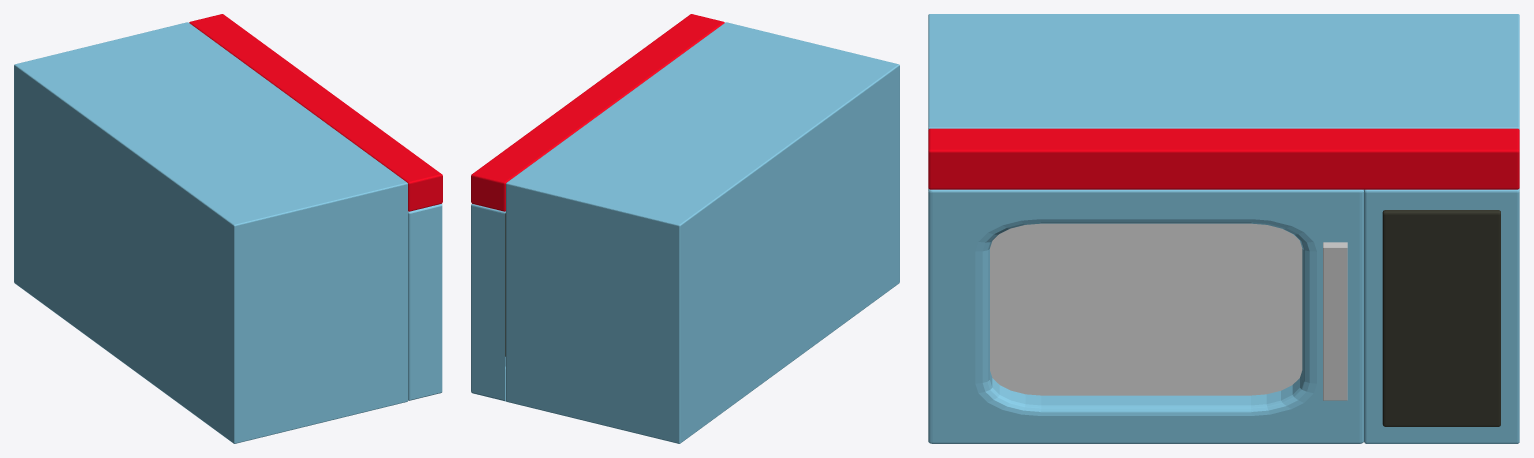
File: mikroDALGA (2).fbx
3 renders of one model, left to right at view 1: azimuth 30°, elevation 25°; view 2: azimuth 150°, elevation 25°; view 3: azimuth 270°, elevation 25°, orthographic. The views are drawn at different scales.
Visible parts, largest first — view 1: Cube.001, Cube.003, Cube.004; view 2: Cube.001, Cube.003, Cube.002; view 3: Cube.001, Cube.004, Cube.005, Cube.002, Cube.003.
Boxes of the visible parts, x1,y1,x2,y2 form: Cube.001: [14, 22, 407, 443]; Cube.003: [189, 14, 442, 211]; Cube.004: [408, 204, 442, 400]; Cube.001: [506, 22, 899, 443]; Cube.003: [471, 14, 724, 211]; Cube.002: [471, 204, 505, 401]; Cube.001: [928, 14, 1519, 129]; Cube.004: [928, 188, 1363, 443]; Cube.005: [990, 223, 1302, 395]; Cube.002: [1364, 188, 1519, 443]; Cube.003: [928, 128, 1519, 189].
Bounding box in the file's own units: 208 × 200 × 364.
